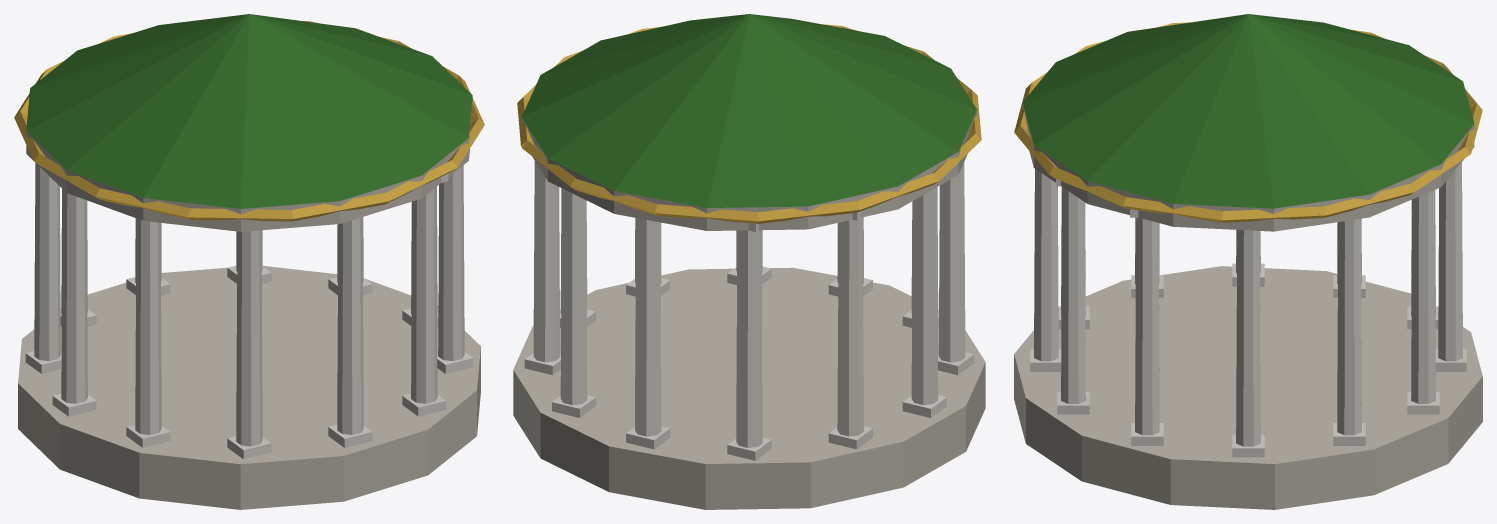
The model's file is centaur_landmark.glb.
3 views of the same model, side by side, from view 1: azimuth 30°, elevation 25°; view 2: azimuth 150°, elevation 25°; view 3: azimuth 270°, elevation 25° (orthographic).
Parts seen in each view (by area): view 1: centaur_landmark; view 2: centaur_landmark; view 3: centaur_landmark.
Part boxes in pixels (x1,y1,x2,y2): centaur_landmark: [14, 14, 484, 509]; centaur_landmark: [513, 14, 985, 509]; centaur_landmark: [1014, 14, 1482, 509].
Bounding box in the file's own units: 2.78 × 2.6 × 2.78.
